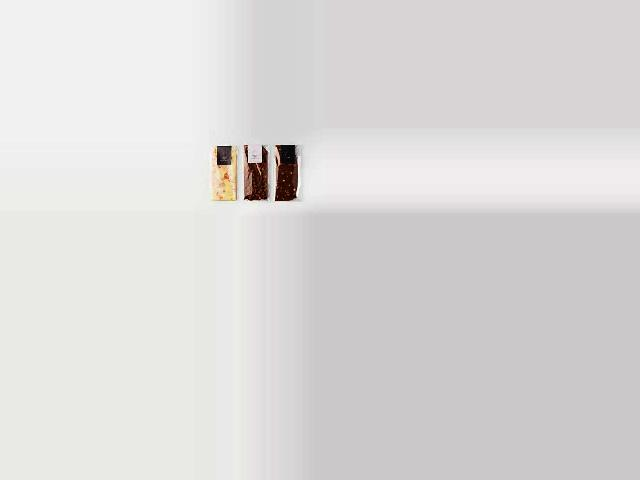chocolate: (276, 145, 302, 203)
